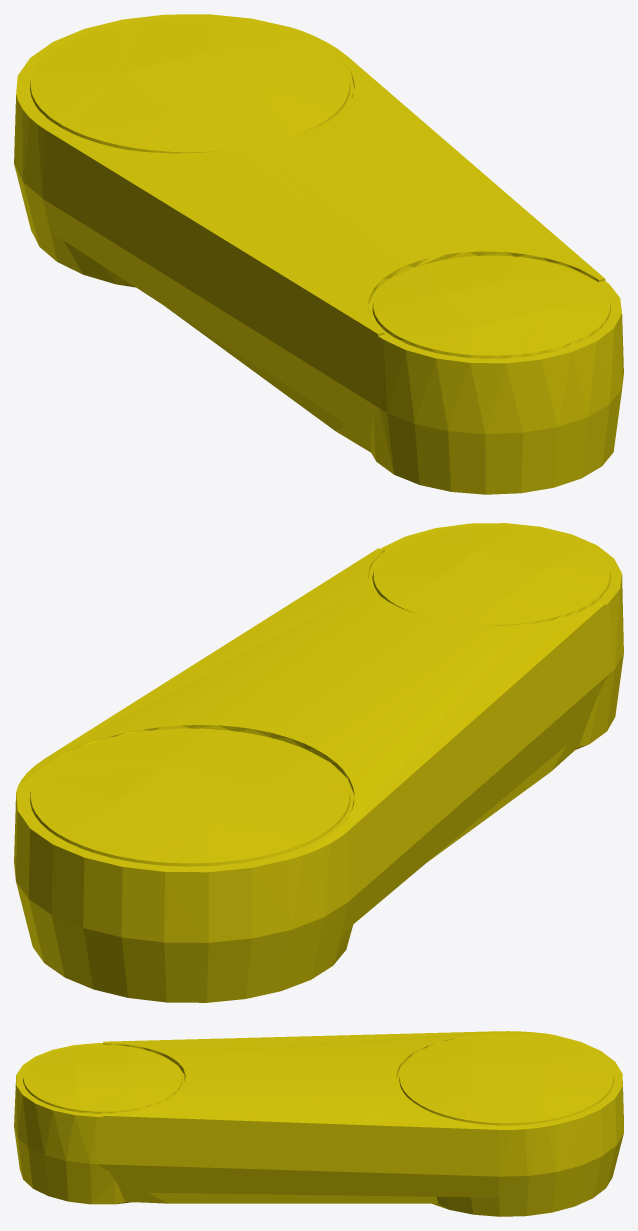
File: arm_link.dae
3 views of the same model, one above another, from view 1: azimuth 30°, elevation 25°; view 2: azimuth 150°, elevation 25°; view 3: azimuth 270°, elevation 25° (orthographic). The views are drawn at different scales.
Parts seen in each view (by area): view 1: node; view 2: node; view 3: node.
Boxes of the visible parts, x1,y1,x2,y2 form: node: [14, 14, 623, 494]; node: [14, 523, 623, 1002]; node: [14, 1031, 623, 1216].
Bounding box in the file's own units: 0.4973 × 0.2215 × 1.28.
1 material, 1 textured.
